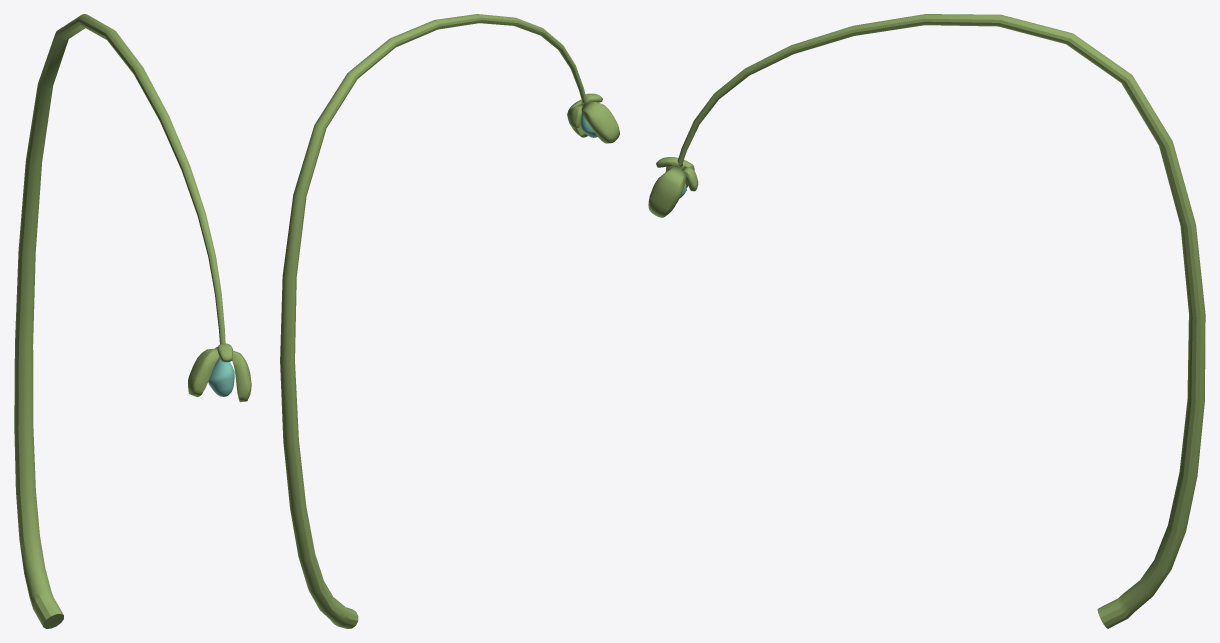
The model's file is Glowing Plant 2.fbx.
The picture shows the model from 3 angles, left to right: view 1: azimuth 30°, elevation 25°; view 2: azimuth 150°, elevation 25°; view 3: azimuth 270°, elevation 25°; orthographic projection. The views are drawn at different scales.
Visible parts, largest first — view 1: group8_group3, pSphere1; view 2: group8_group3; view 3: group8_group3.
Part boxes in pixels (left/top/right/bottom): group8_group3: left=14, top=14, right=251, bottom=628; pSphere1: left=208, top=358, right=234, bottom=396; group8_group3: left=280, top=14, right=619, bottom=628; group8_group3: left=648, top=14, right=1205, bottom=628.
Size of the model in its own units: 0.7891 by 4.09 by 3.36.
